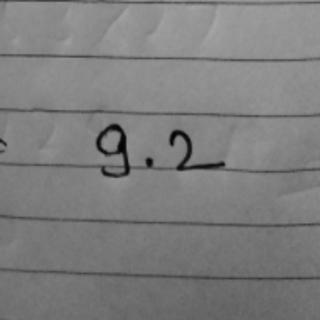.: (139, 153, 157, 175)
2: (167, 125, 225, 172)
9: (95, 124, 130, 180)
